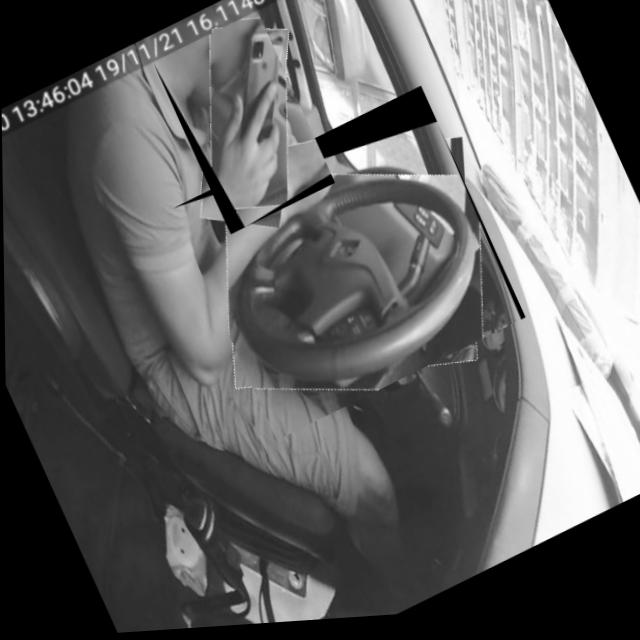phone: (152, 10, 334, 241)
wheel: (170, 85, 526, 449)
